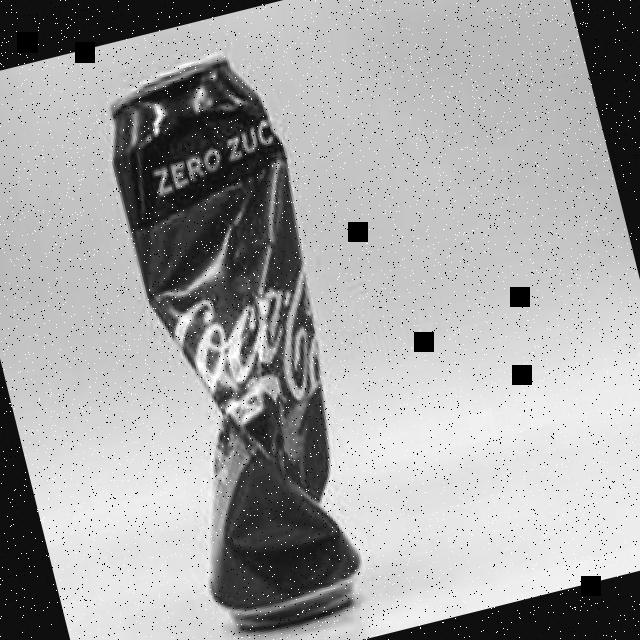can: (77, 37, 400, 640)
